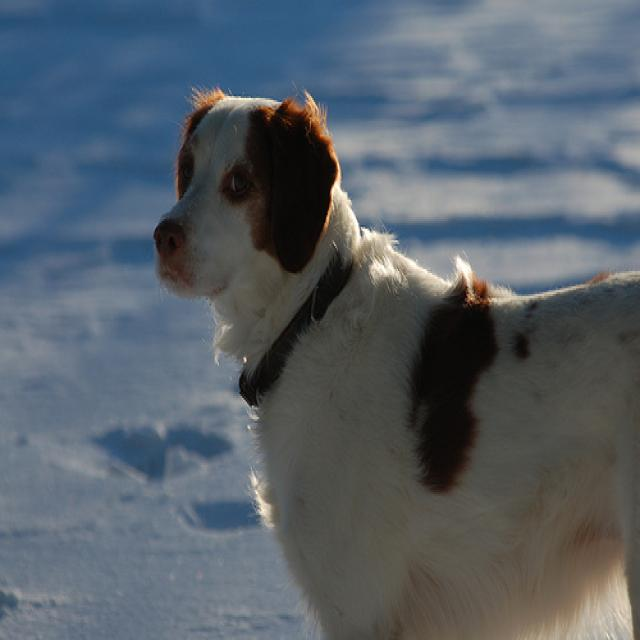dog-english_setter: (137, 75, 637, 636)
